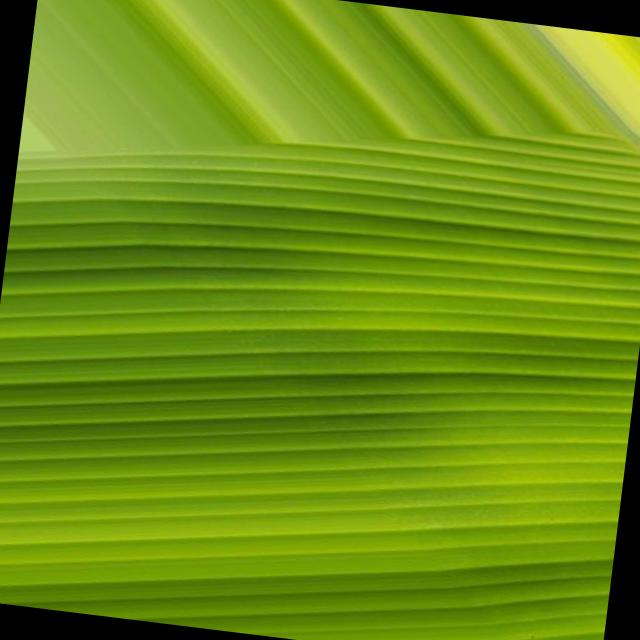Banana_Healthy: (99, 194, 606, 636)
